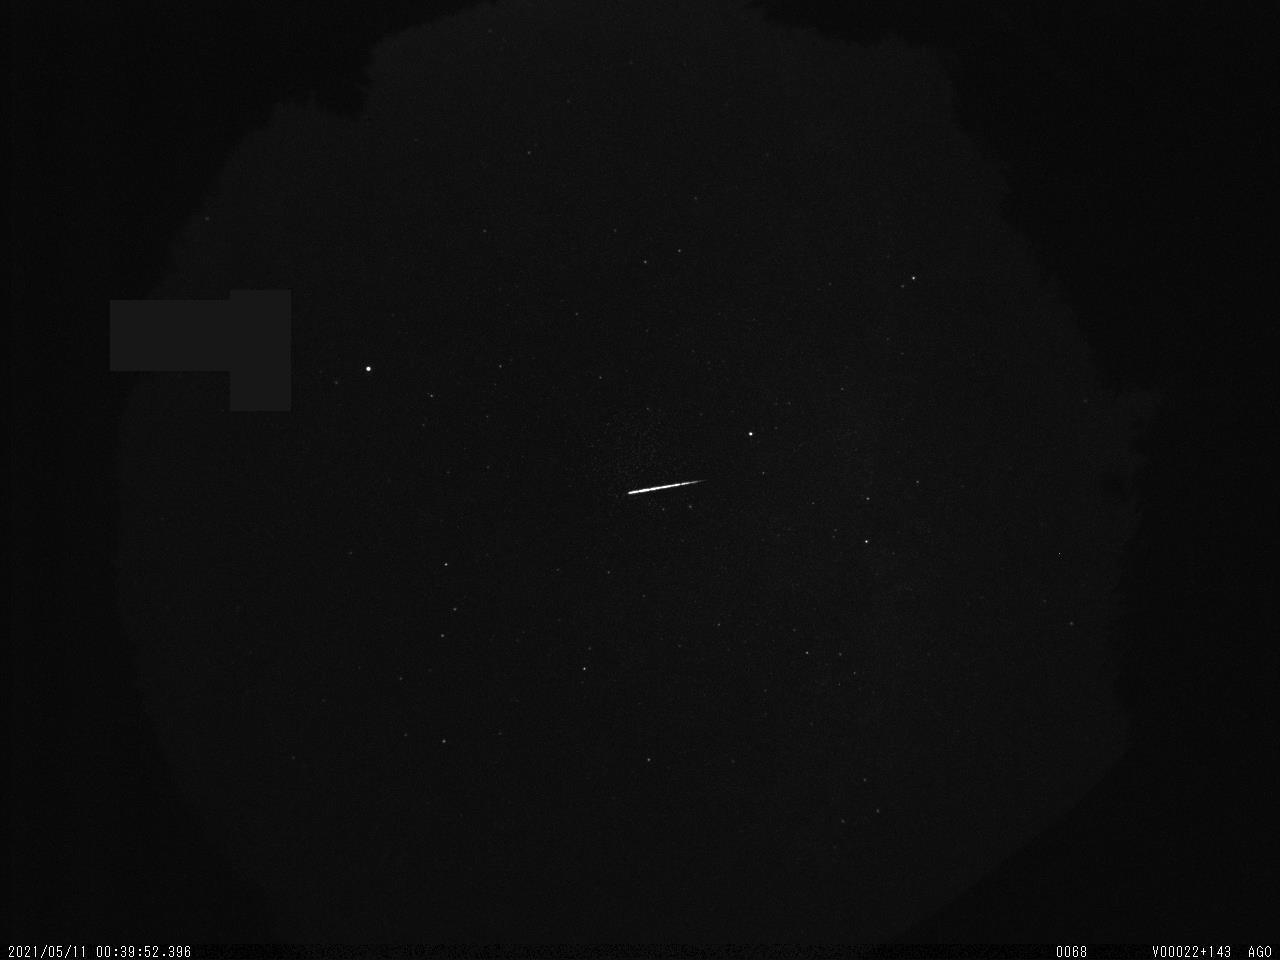meteor: (620, 472, 718, 509)
